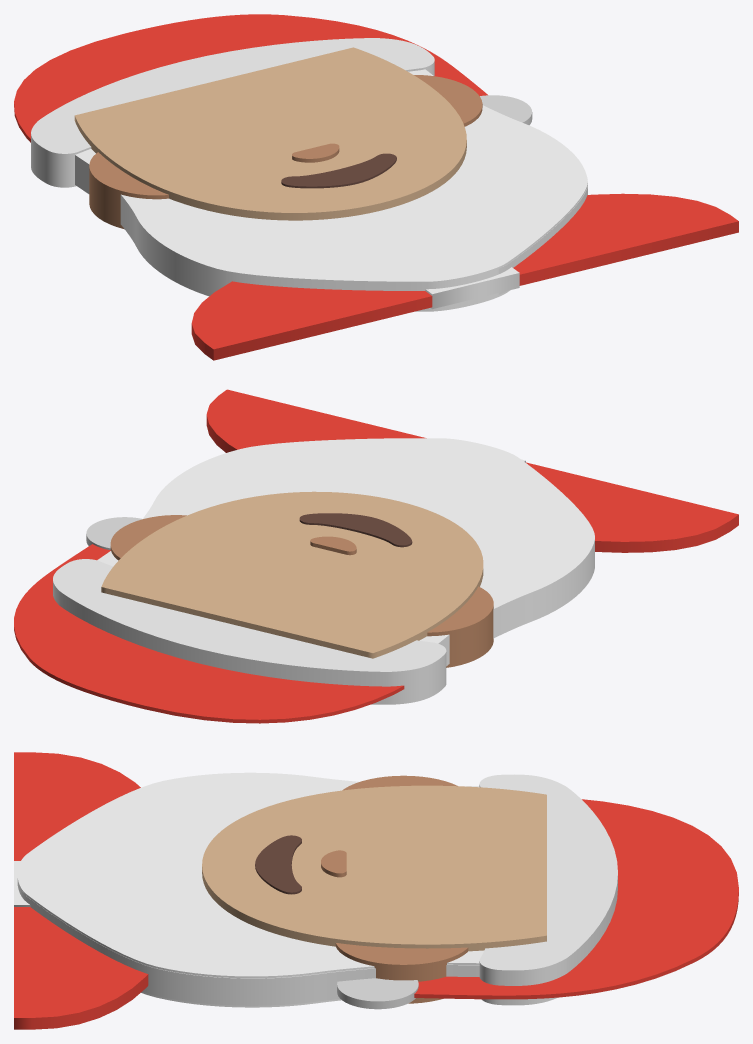
Rendered from emoji_u1f385_1f3fc.glb.
3 views of the same model, one above another, from view 1: azimuth 30°, elevation 25°; view 2: azimuth 150°, elevation 25°; view 3: azimuth 270°, elevation 25° (orthographic). The views are drawn at different scales.
Visible parts, largest first — view 1: emoji_u1f385_1f3fc; view 2: emoji_u1f385_1f3fc; view 3: emoji_u1f385_1f3fc.
Part boxes in pixels (x1,y1,x2,y2): emoji_u1f385_1f3fc: (14,14,738,360); emoji_u1f385_1f3fc: (14,389,738,723); emoji_u1f385_1f3fc: (14,752,738,1029).
Bounding box in the file's own units: 0.0293 × 0.0028 × 0.0338.
